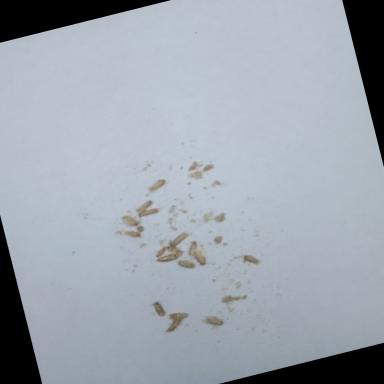pbw: (201, 312, 225, 332), (148, 298, 170, 318), (166, 230, 190, 248), (165, 242, 185, 260), (190, 248, 208, 268), (162, 318, 184, 334), (176, 255, 196, 272), (155, 251, 180, 264), (121, 212, 141, 228), (242, 250, 262, 266), (167, 308, 189, 322), (134, 199, 154, 214), (146, 178, 166, 192), (136, 206, 158, 217), (185, 238, 199, 255), (153, 244, 169, 258), (123, 228, 141, 240)
